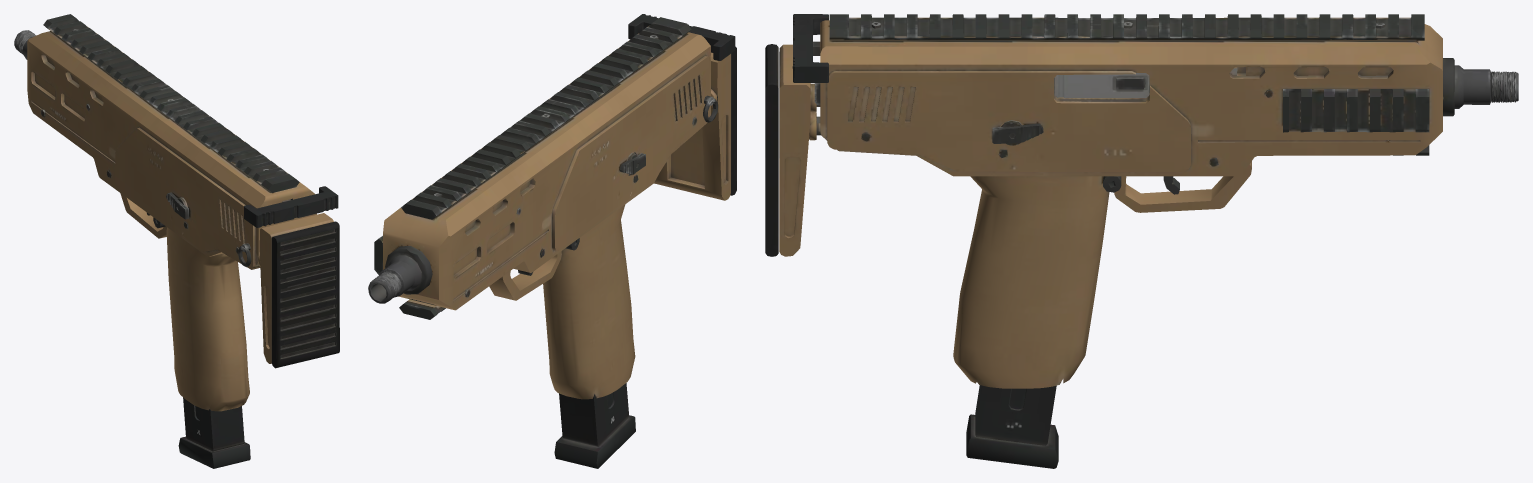
File: smg_9mm_tan_leve.glb
The picture shows the model from 3 angles, left to right: view 1: azimuth 30°, elevation 25°; view 2: azimuth 150°, elevation 25°; view 3: azimuth 270°, elevation 25°; orthographic projection. The views are drawn at different scales.
Parts seen in each view (by area): view 1: smg_9mm_tan_leve; view 2: smg_9mm_tan_leve; view 3: smg_9mm_tan_leve.
Part boxes in pixels (box(x1,y1,x2,y2)): smg_9mm_tan_leve: box(14, 14, 339, 468); smg_9mm_tan_leve: box(368, 14, 736, 468); smg_9mm_tan_leve: box(765, 14, 1518, 468).
Bounding box in the file's own units: 0.0547 × 0.2098 × 0.329.
1 material, 1 textured.
